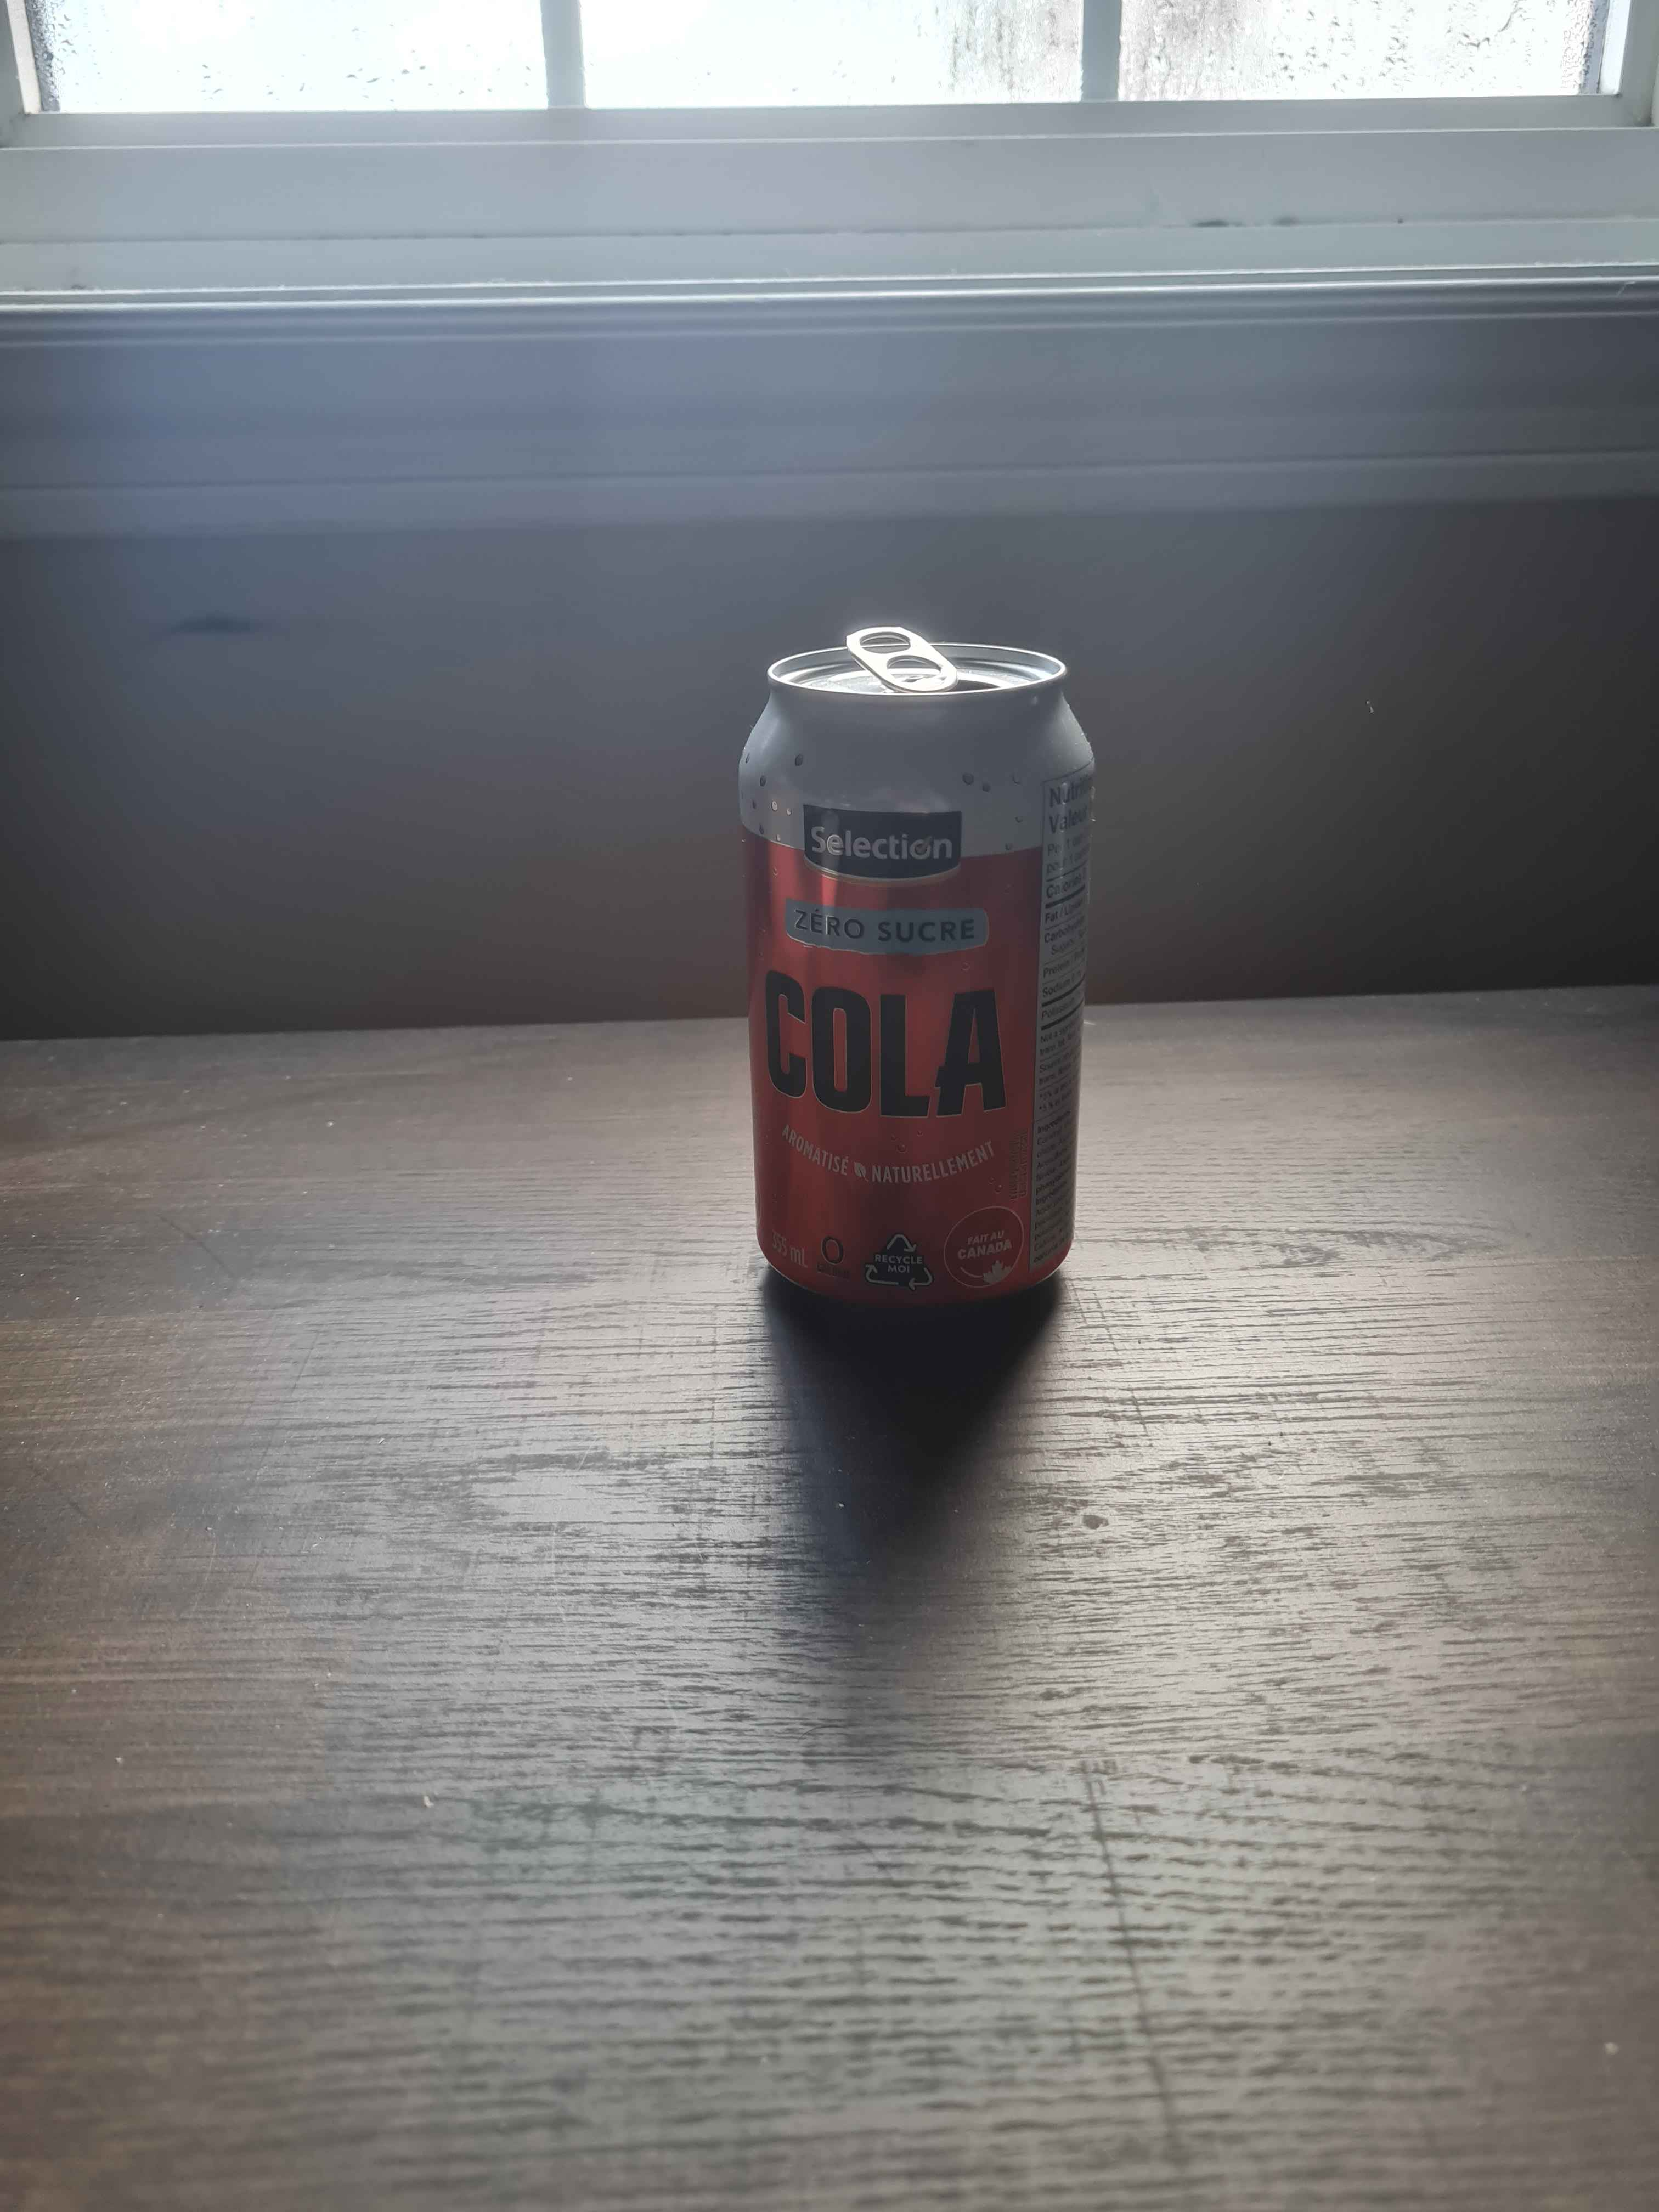soda can: (735, 620, 1100, 1317)
